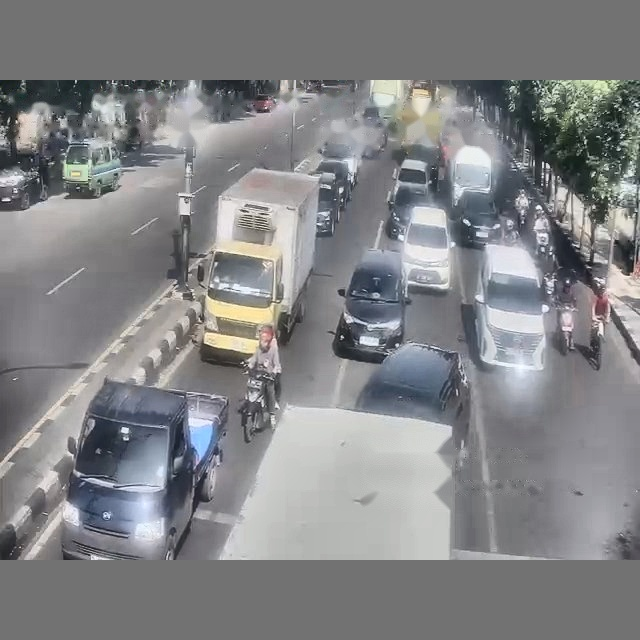Mobil: (355, 342, 471, 450), (334, 249, 410, 357), (402, 206, 454, 291), (385, 184, 430, 239), (457, 190, 501, 246), (0, 152, 43, 209), (319, 135, 361, 187), (313, 159, 351, 208), (387, 159, 429, 203), (404, 142, 443, 189), (316, 173, 340, 236), (393, 159, 429, 192), (357, 119, 387, 158), (361, 106, 385, 129), (253, 94, 275, 112), (305, 80, 321, 92)
Motor: (239, 366, 274, 442), (557, 304, 575, 355), (590, 316, 604, 369), (516, 203, 528, 231)
Truk: (218, 406, 454, 559), (61, 378, 228, 559), (197, 168, 318, 361)
